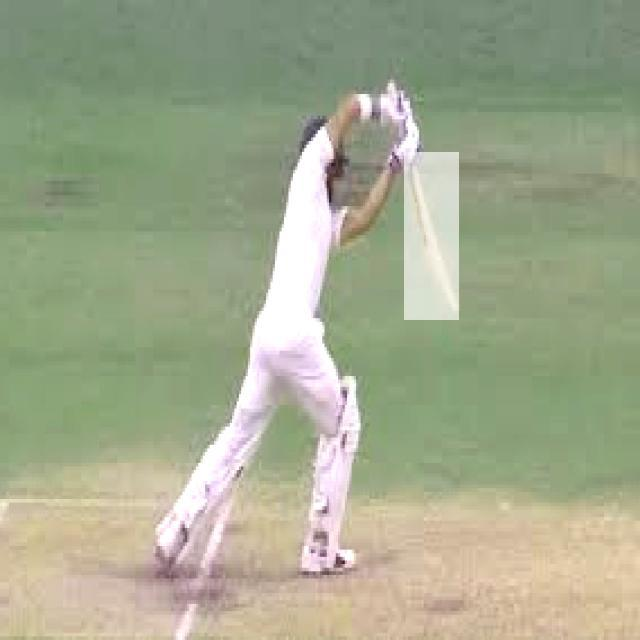bat: (404, 152, 459, 320)
toe: (451, 294, 469, 319)
